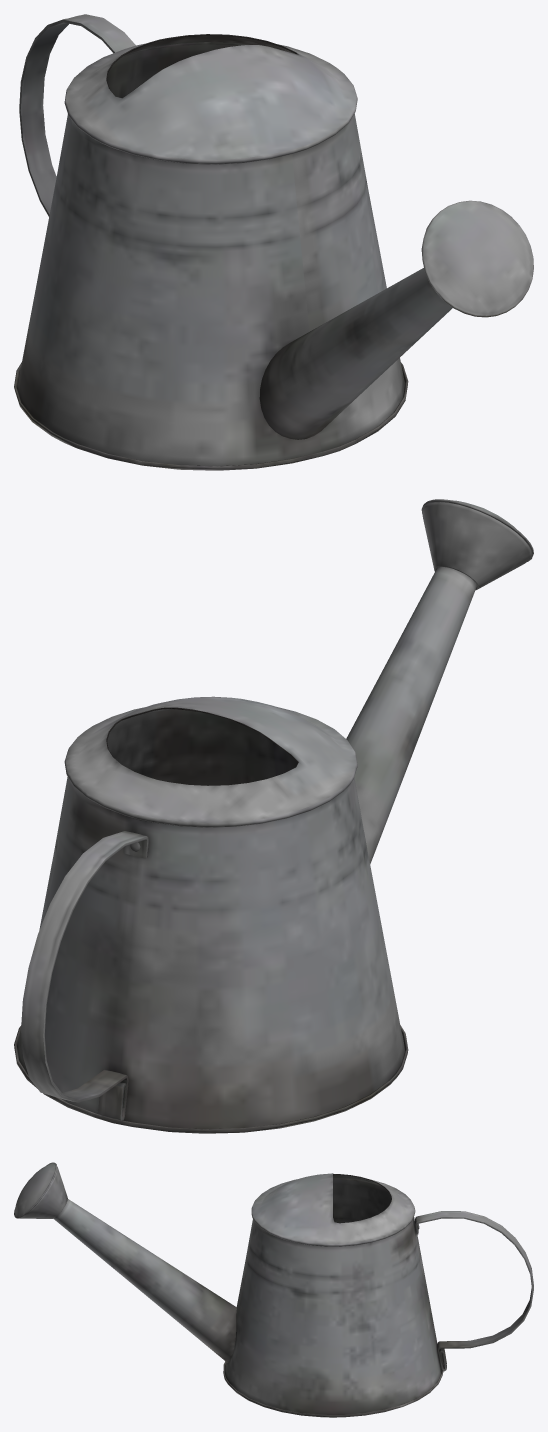
Rendered from watering_can_metal_01.glb.
3 renders of one model, top to bottom at view 1: azimuth 30°, elevation 25°; view 2: azimuth 150°, elevation 25°; view 3: azimuth 270°, elevation 25°, orthographic. The views are drawn at different scales.
Visible parts, largest first — view 1: watering_can_metal_01; view 2: watering_can_metal_01; view 3: watering_can_metal_01.
Boxes of the visible parts, x1,y1,x2,y2 form: watering_can_metal_01: [14, 14, 533, 470]; watering_can_metal_01: [14, 499, 533, 1133]; watering_can_metal_01: [14, 1162, 533, 1417].
Size of the model in its own units: 0.1909 by 0.1967 by 0.4523.
Materials: 1 (1 with a texture image).
